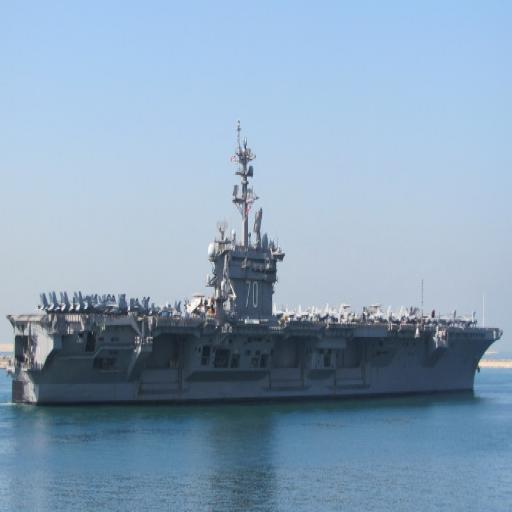Portanaves: (6, 118, 506, 415)
